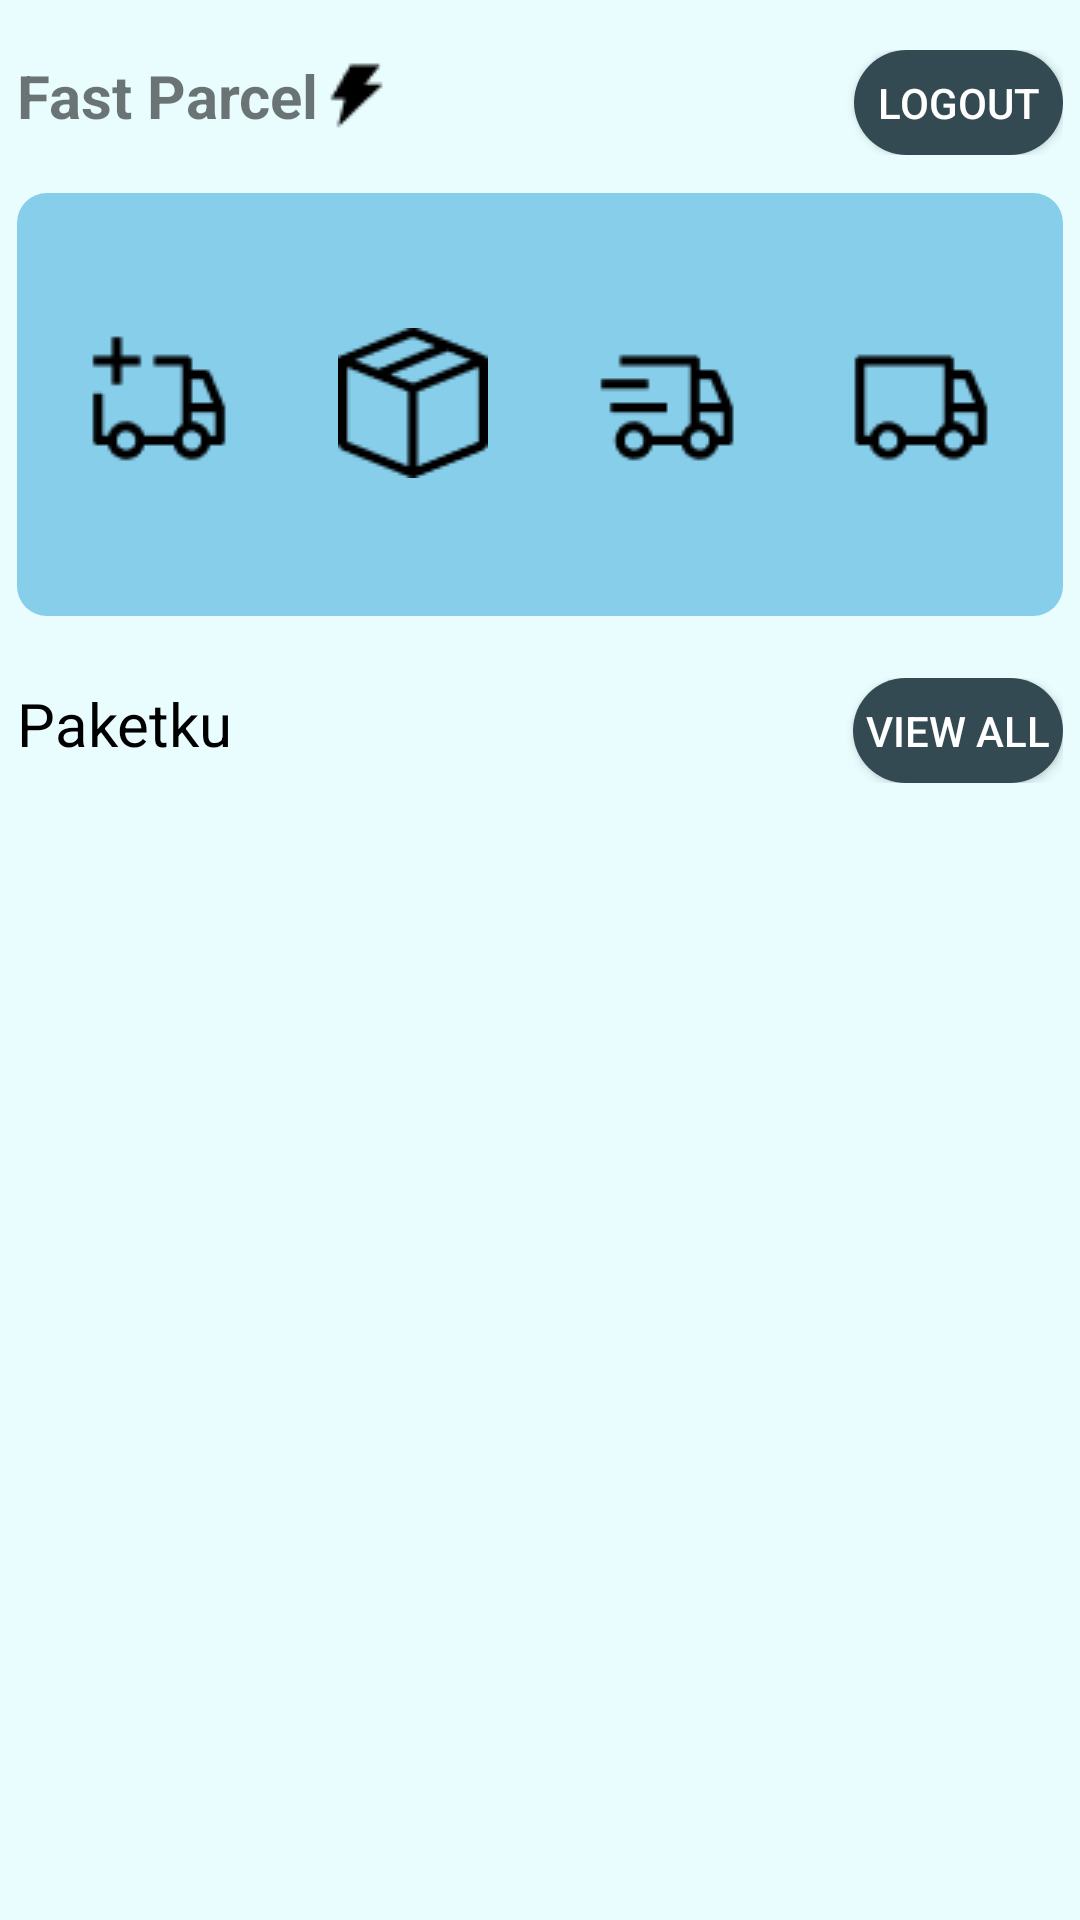

Icons on this 1080w x 1920h Android screen, each with its box as (x1, y1, x2, y2):
add delivery: (92, 336, 226, 461)
arived: (854, 354, 988, 461)
deliverd: (600, 354, 734, 461)
packing: (338, 328, 488, 478)
